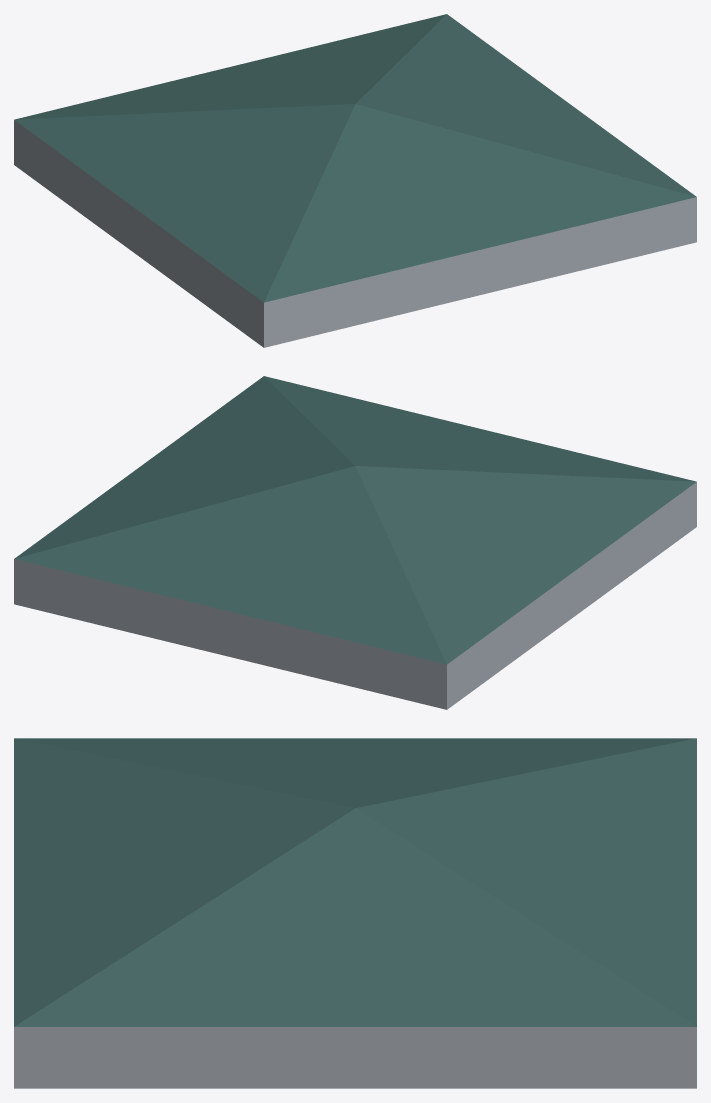
File: naturePack_005.fbx
The picture shows the model from 3 angles, top to bottom: view 1: azimuth 30°, elevation 25°; view 2: azimuth 150°, elevation 25°; view 3: azimuth 270°, elevation 25°; orthographic projection. The views are drawn at different scales.
Parts seen in each view (by area): view 1: Mesh1_Plate_Grass Model; view 2: Mesh1_Plate_Grass Model; view 3: Mesh1_Plate_Grass Model.
Part boxes in pixels (x1,y1,x2,y2): Mesh1_Plate_Grass Model: [14, 14, 696, 347]; Mesh1_Plate_Grass Model: [14, 376, 696, 709]; Mesh1_Plate_Grass Model: [14, 738, 696, 1088].
Size of the model in its own units: 3 by 0.66 by 3.
